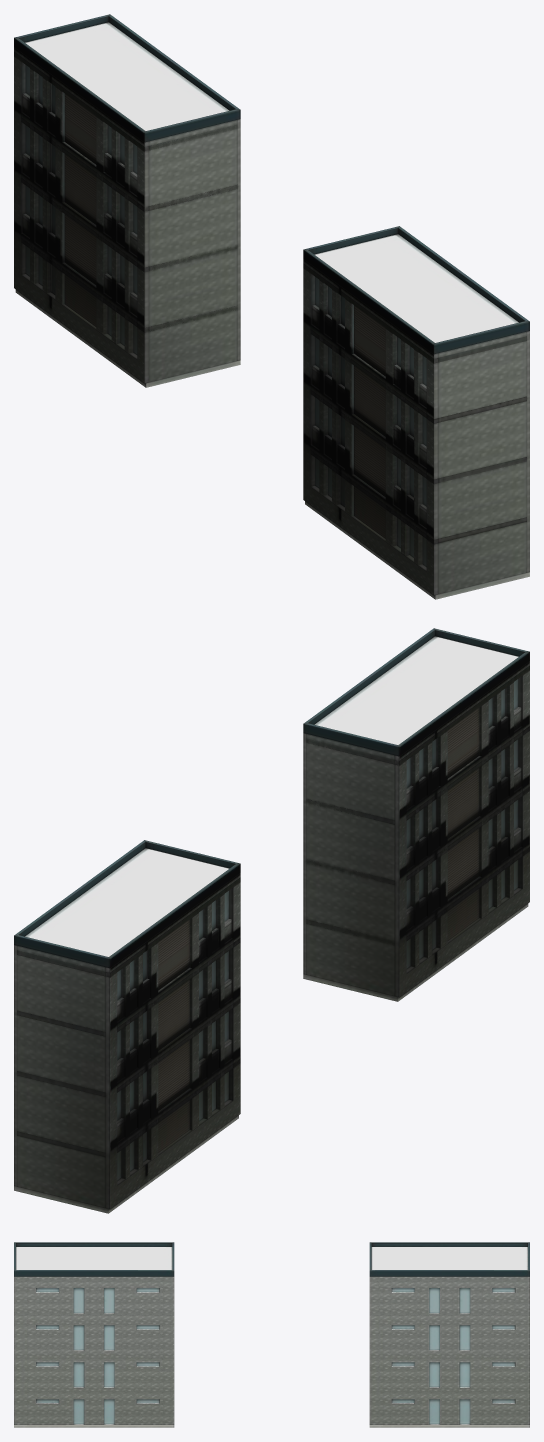
The model's file is teaching_B3T.glb.
3 views of the same model, one above another, from view 1: azimuth 30°, elevation 25°; view 2: azimuth 150°, elevation 25°; view 3: azimuth 270°, elevation 25° (orthographic). The views are drawn at different scales.
Visible parts, largest first — view 1: 教学楼B_3; view 2: 教学楼B_3; view 3: 教学楼B_3.
Boxes of the visible parts, <box> form: 教学楼B_3: <box>14,14,529,599</box>; 教学楼B_3: <box>14,628,529,1213</box>; 教学楼B_3: <box>14,1242,529,1427</box>.
Size of the model in its own units: 6.5 by 16.5 by 49.24.
1 material, 1 textured.
